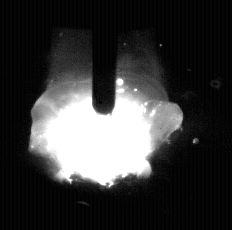arame: (93, 0, 117, 115)
poca: (31, 0, 175, 230)
